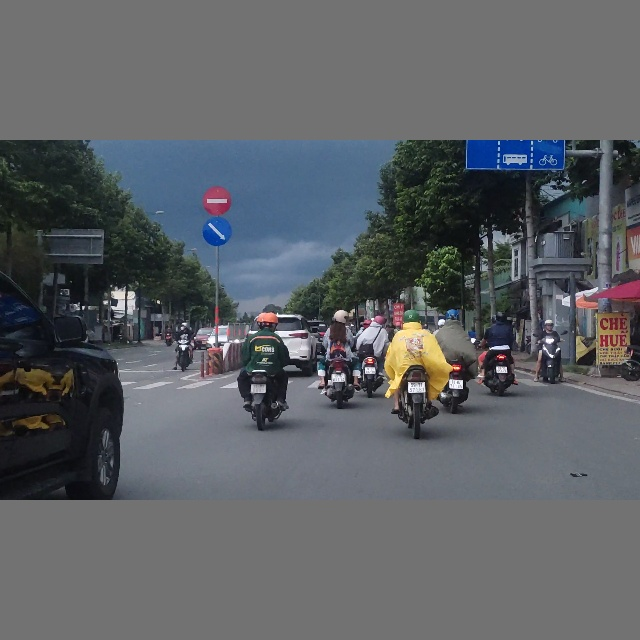P.102: (203, 186, 231, 216)
R.302a: (202, 216, 232, 246)
